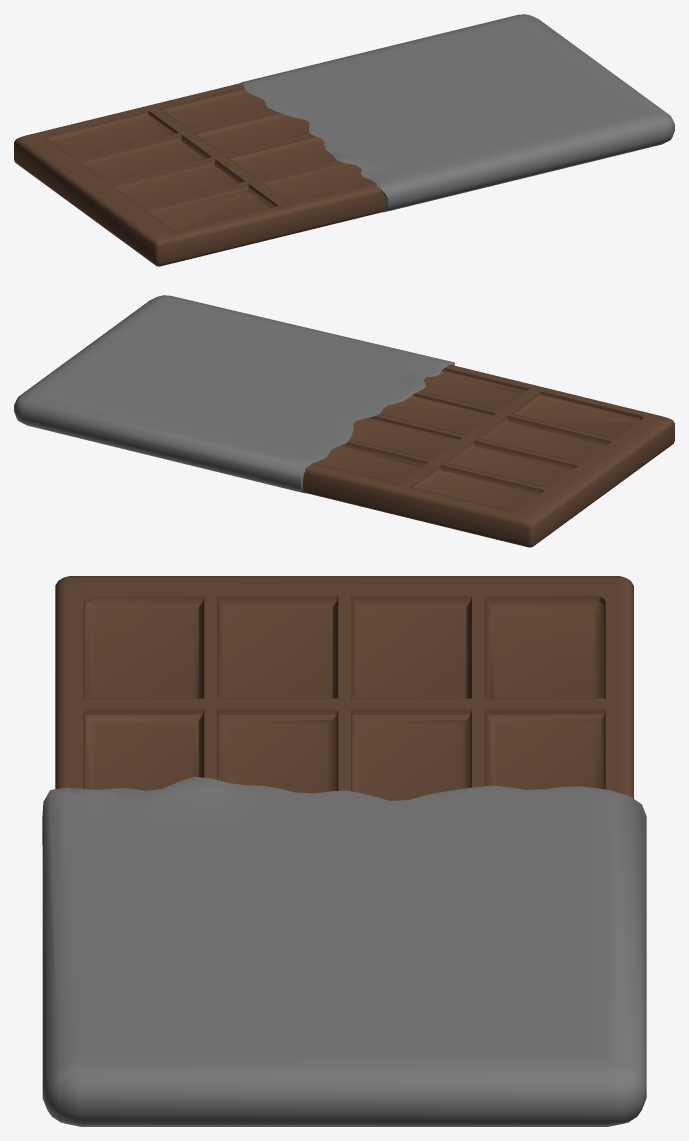
Rendered from TS_chocolate.fbx.
3 views of the same model, one above another, from view 1: azimuth 30°, elevation 25°; view 2: azimuth 150°, elevation 25°; view 3: azimuth 270°, elevation 25° (orthographic). The views are drawn at different scales.
Parts seen in each view (by area): view 1: 立方体.001, 立方体; view 2: 立方体.001, 立方体; view 3: 立方体.001, 立方体.
Part boxes in pixels (x1,y1,x2,y2): 立方体.001: (241, 14, 674, 212); 立方体: (14, 83, 385, 266); 立方体.001: (14, 295, 454, 493); 立方体: (303, 364, 674, 547); 立方体.001: (42, 776, 646, 1126); 立方体: (55, 576, 633, 800).
Bounding box in the file's own units: 417 × 27.13 × 209.
